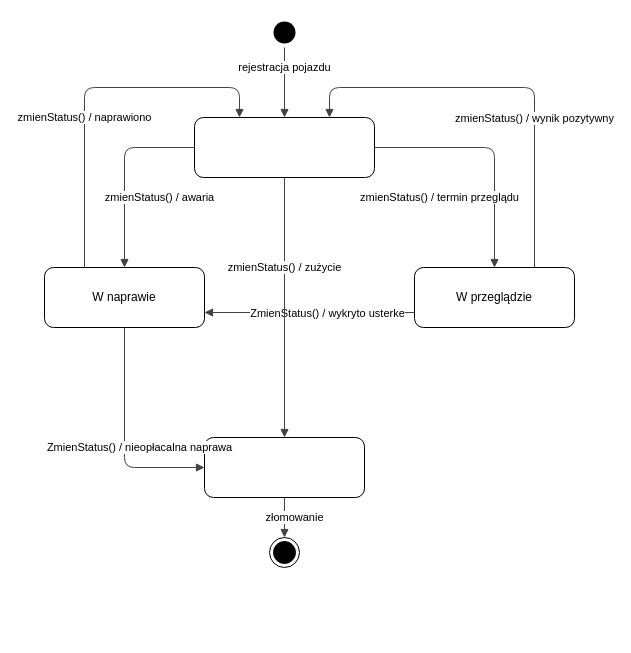
The diagram is 631 pixels wide and 653 high, and some of its shapes have lost their labels. The centre of each missing label's shape, as x and y in pixels:
Gotowy do eksploatacji: [284,147]
Wycofany: [284,467]
